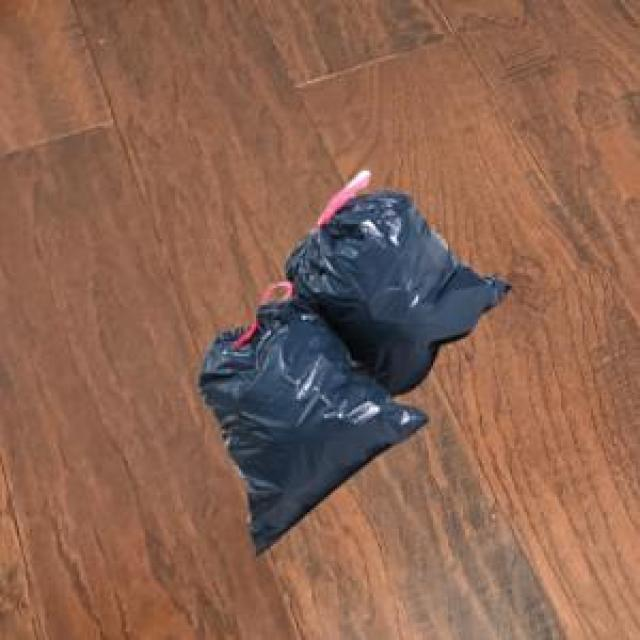waste: (200, 190, 510, 548)
